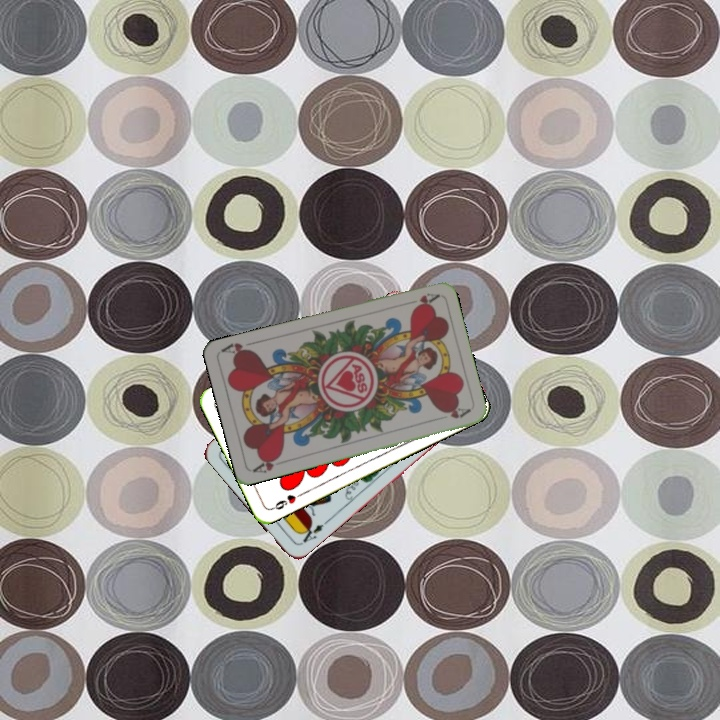EA: (296, 519, 326, 547)
H9: (267, 489, 305, 513)
HA: (249, 451, 289, 476), (400, 289, 441, 311)
